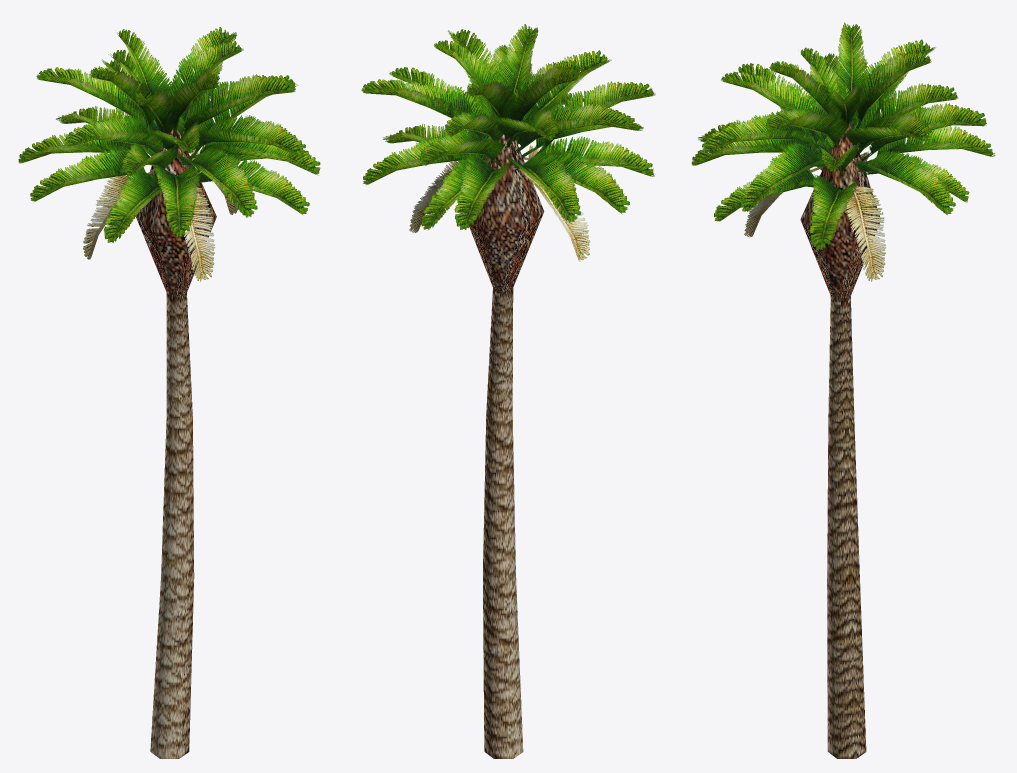
File: palm_tropical_tall_0.glb
3 views of the same model, side by side, from view 1: azimuth 30°, elevation 25°; view 2: azimuth 150°, elevation 25°; view 3: azimuth 270°, elevation 25° (orthographic).
Visible parts, largest first — view 1: palm_tropical_tall_0; view 2: palm_tropical_tall_0; view 3: palm_tropical_tall_0.
Boxes of the visible parts, x1,y1,x2,y2 form: palm_tropical_tall_0: [18, 27, 320, 758]; palm_tropical_tall_0: [361, 24, 655, 758]; palm_tropical_tall_0: [691, 22, 995, 758].
Bounding box in the file's own units: 5.34 × 13.39 × 5.42.
Materials: 1 (1 with a texture image).
